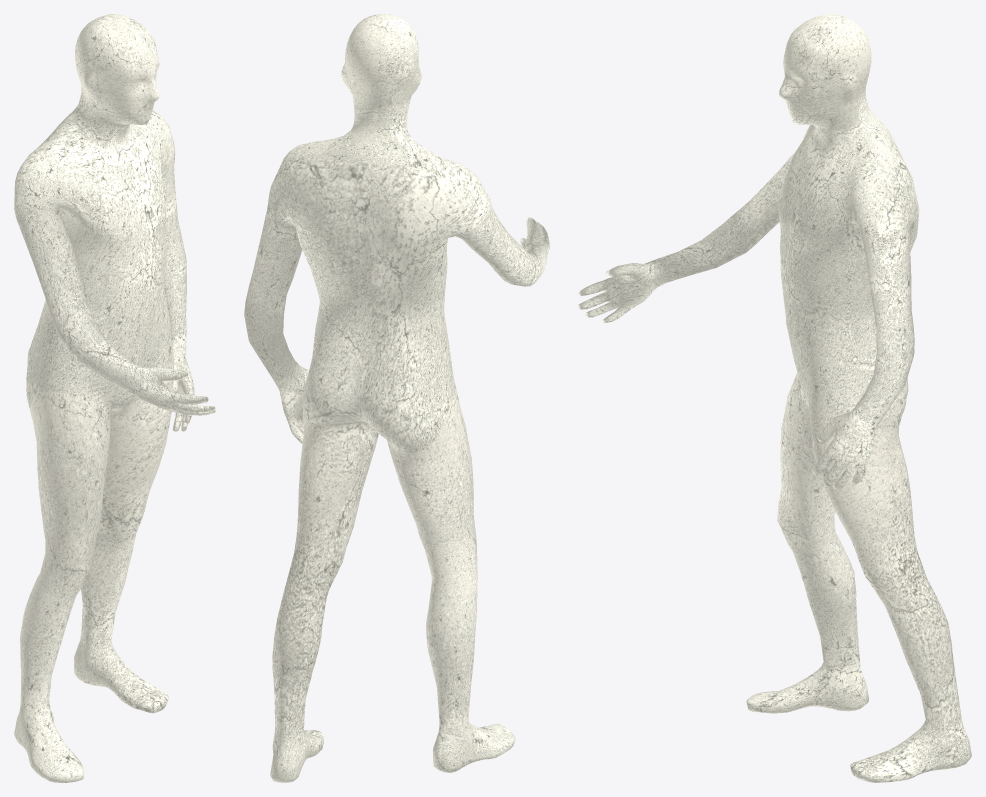
File: statuette_v3.gltf
3 views of the same model, side by side, from view 1: azimuth 30°, elevation 25°; view 2: azimuth 150°, elevation 25°; view 3: azimuth 270°, elevation 25° (orthographic).
Visible parts, largest first — view 1: statue; view 2: statue; view 3: statue.
Part boxes in pixels (x1,y1,x2,y2): statue: (14, 14, 215, 782); statue: (244, 14, 549, 782); statue: (578, 14, 971, 782).
Size of the model in its own units: 2.63 by 8.98 by 4.38.
Materials: 1 (1 with a texture image).
